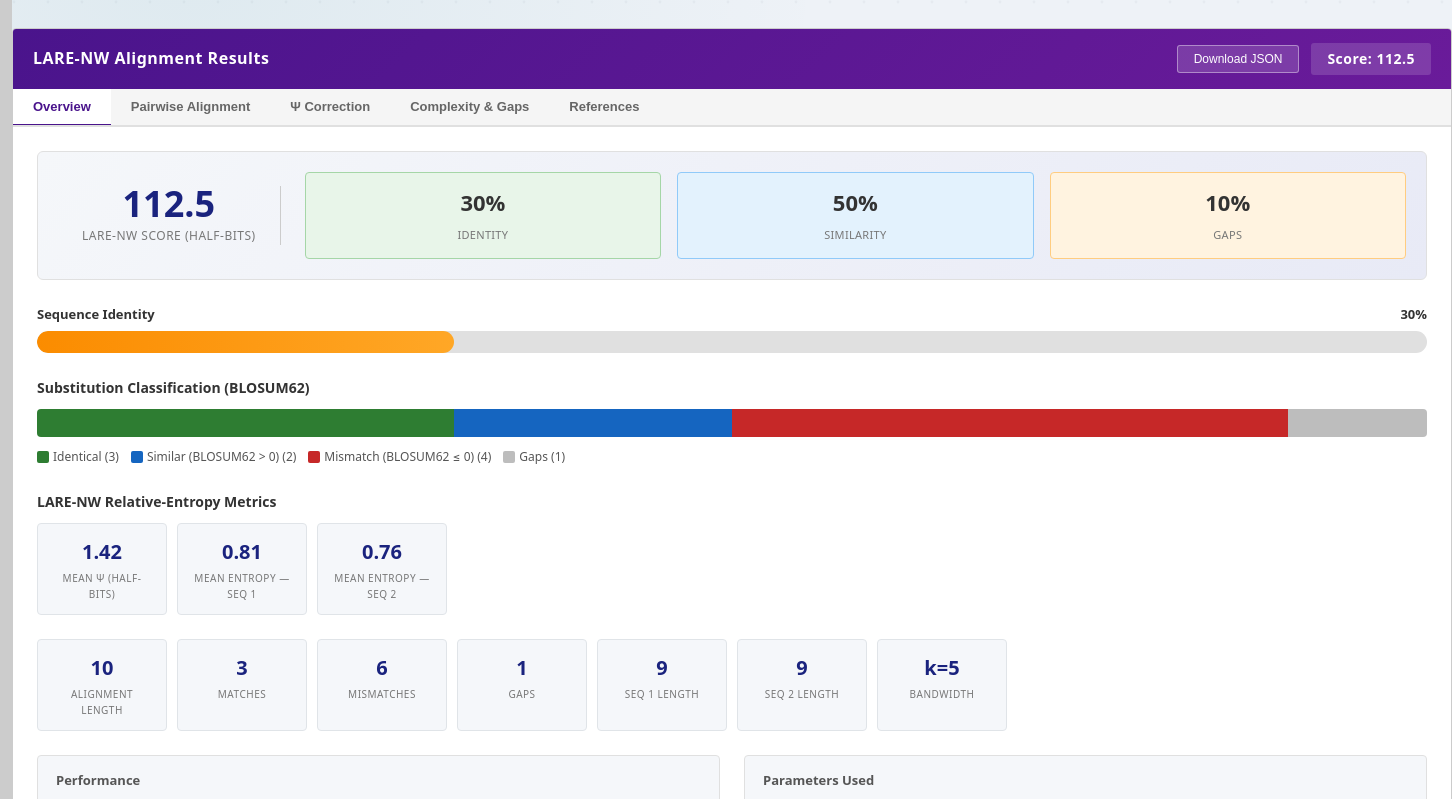
Test: AlignmentResults › switches to the Complexity & Gaps tab
Click the button "Complexity & Gaps" at (470, 108), box [390, 89, 549, 127]
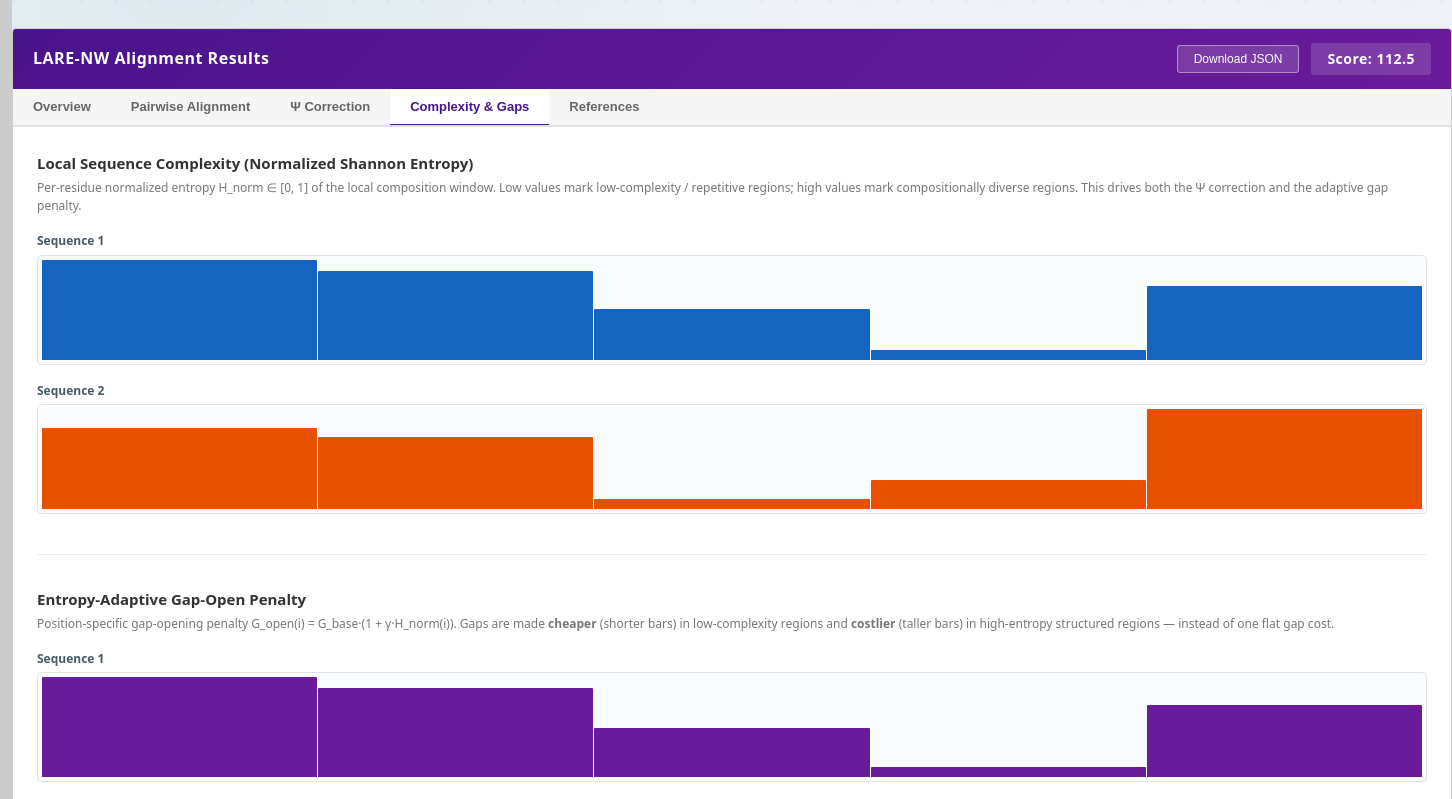
Expected: the heading "Local Sequence Complexity (Normalized Shannon Entropy)" is shown, [37, 153, 473, 173]
Expected: the heading "Entropy-Adaptive Gap-Open Penalty" is shown, [37, 589, 306, 609]
